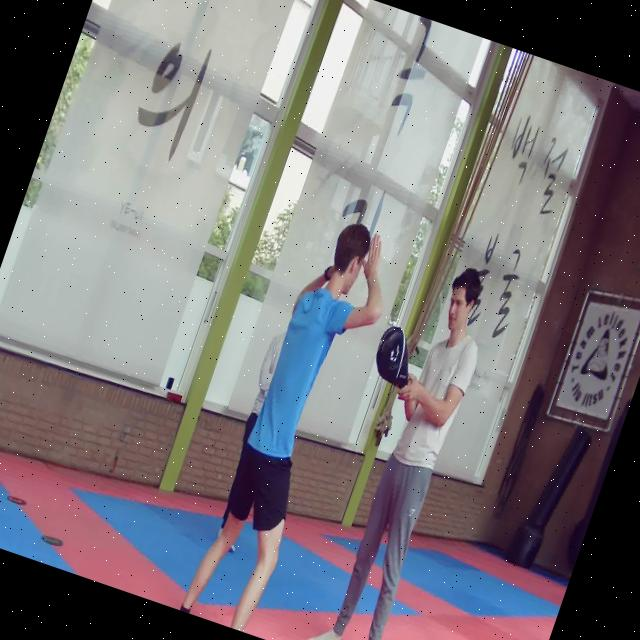paddle: (376, 325, 408, 387)
